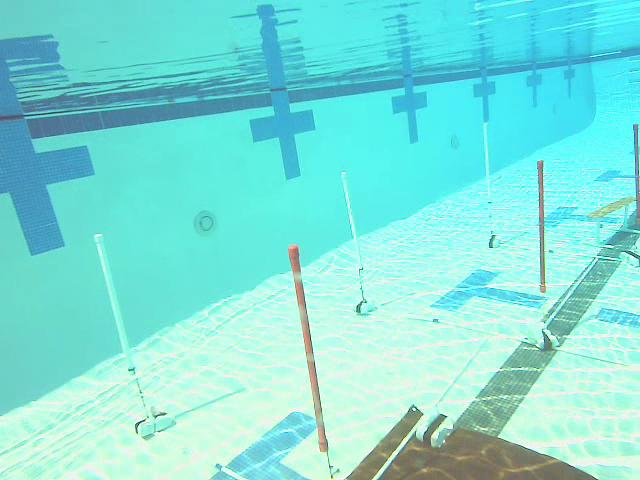black_poster: (275, 242, 351, 480), (520, 150, 563, 358)
white_poster: (79, 228, 178, 440), (330, 165, 376, 319), (470, 122, 511, 248)
